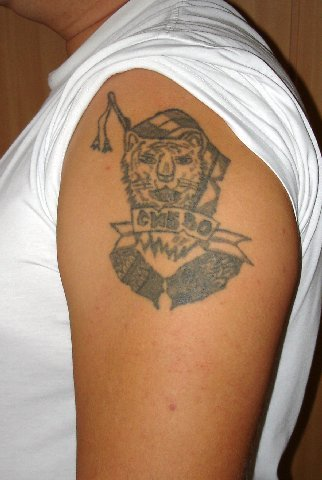tatu3_bukva: (133, 209, 215, 242)
tatu5_tigr: (117, 128, 202, 211)
